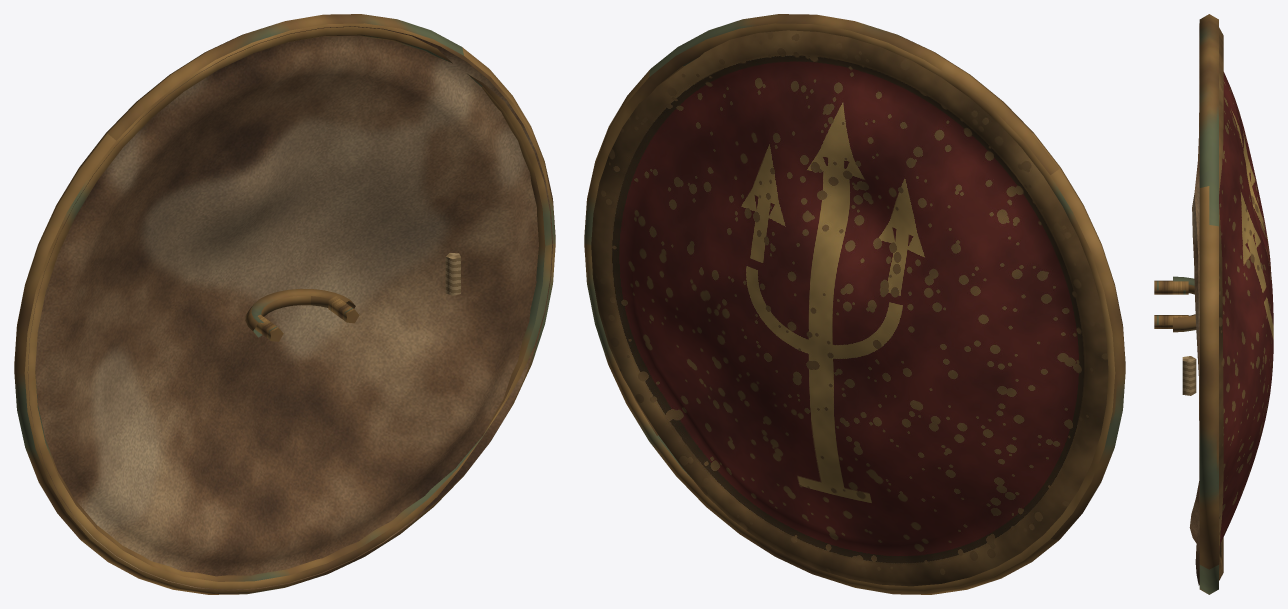
File: hoplon_tridente.gltf
The picture shows the model from 3 angles, left to right: view 1: azimuth 30°, elevation 25°; view 2: azimuth 150°, elevation 25°; view 3: azimuth 270°, elevation 25°; orthographic projection. The views are drawn at different scales.
Parts seen in each view (by area): view 1: hoplon_tridente; view 2: hoplon_tridente; view 3: hoplon_tridente.
Boxes of the visible parts, x1,y1,x2,y2 form: hoplon_tridente: (14,14,555,594); hoplon_tridente: (584,14,1125,594); hoplon_tridente: (1154,14,1273,594).
Bounding box in the file's own units: 0.928 × 0.928 × 0.191.
Materials: 4 (4 with a texture image).
